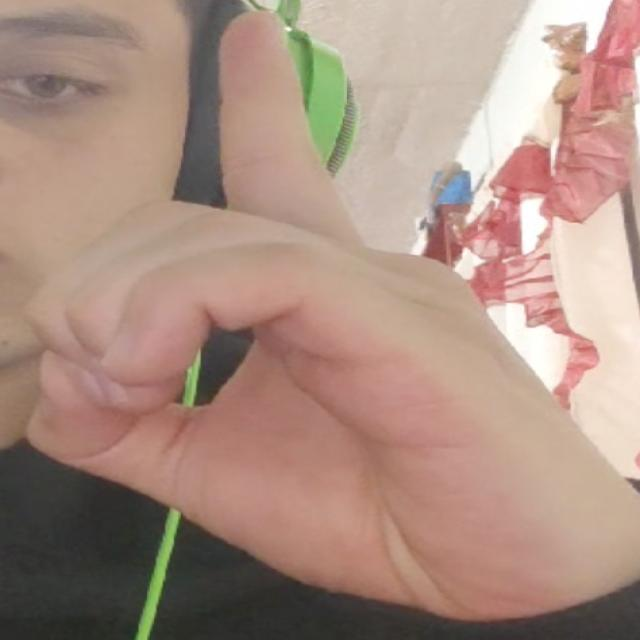D: (10, 5, 640, 616)
